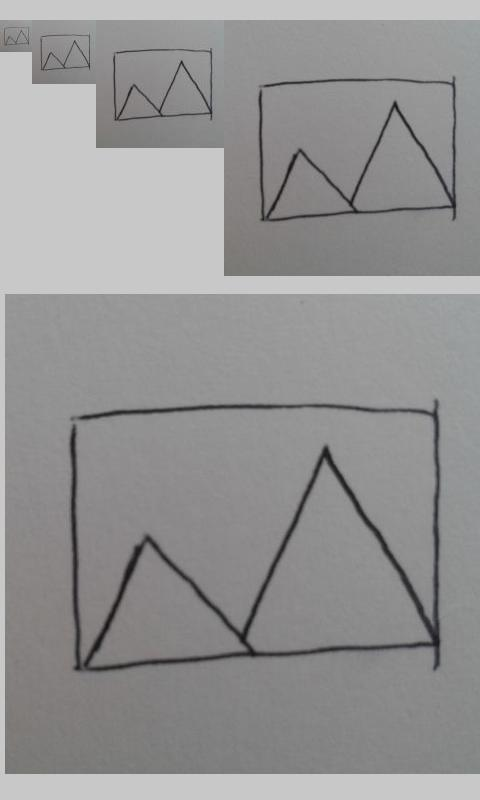image_view: (68, 403, 441, 672), (254, 78, 459, 224), (113, 48, 213, 122), (40, 34, 92, 71), (3, 26, 30, 46)
